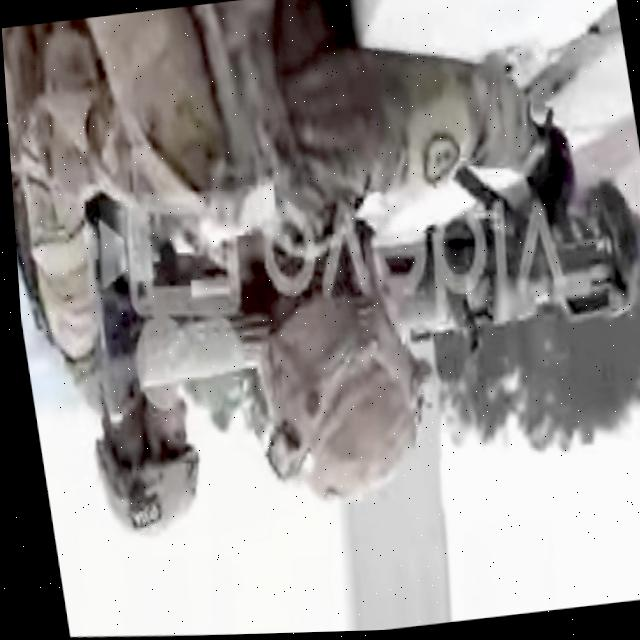rocket: (365, 152, 640, 366)
